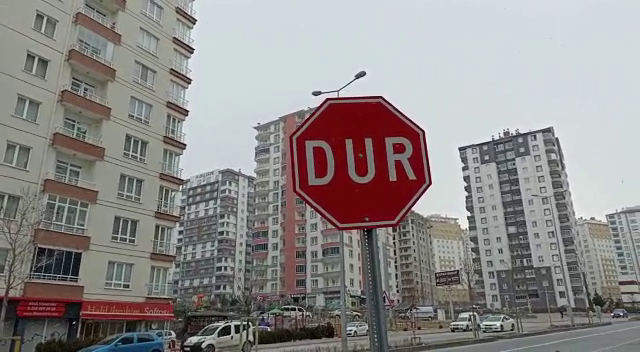stop: (286, 94, 436, 235)
